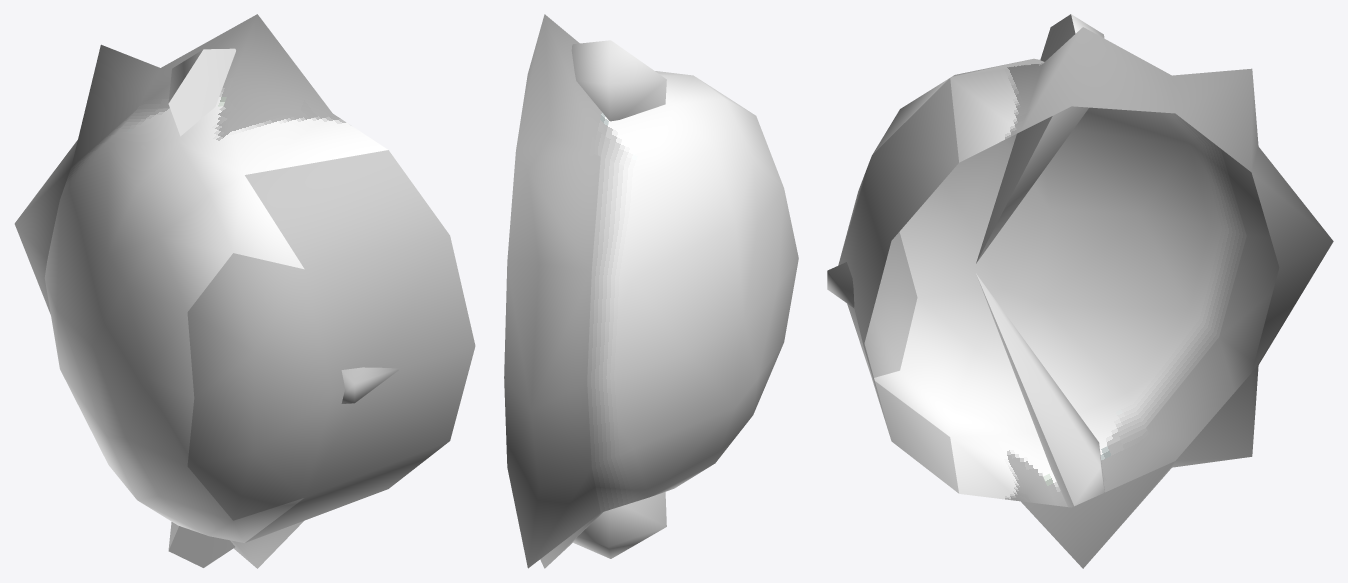
The model's file is boy11b.dae.
3 renders of one model, left to right at view 1: azimuth 30°, elevation 25°; view 2: azimuth 150°, elevation 25°; view 3: azimuth 270°, elevation 25°, orthographic. The views are drawn at different scales.
Visible parts, largest first — view 1: vsn_mesh_1_, vsn_mesh_0_, vsn_mesh_2_; view 2: vsn_mesh_1_; view 3: vsn_mesh_1_, vsn_mesh_0_, vsn_mesh_2_.
Boxes of the visible parts, left/top/right/bottom form: vsn_mesh_1_: left=14, top=14, right=387, bottom=568; vsn_mesh_0_: left=245, top=150, right=475, bottom=542; vsn_mesh_2_: left=187, top=253, right=332, bottom=520; vsn_mesh_1_: left=504, top=14, right=798, bottom=568; vsn_mesh_1_: left=872, top=14, right=1333, bottom=568; vsn_mesh_0_: left=827, top=78, right=958, bottom=493; vsn_mesh_2_: left=838, top=157, right=917, bottom=377.
Bounding box in the file's own units: 15.5 × 28.56 × 24.18.
3 materials, 1 textured.
